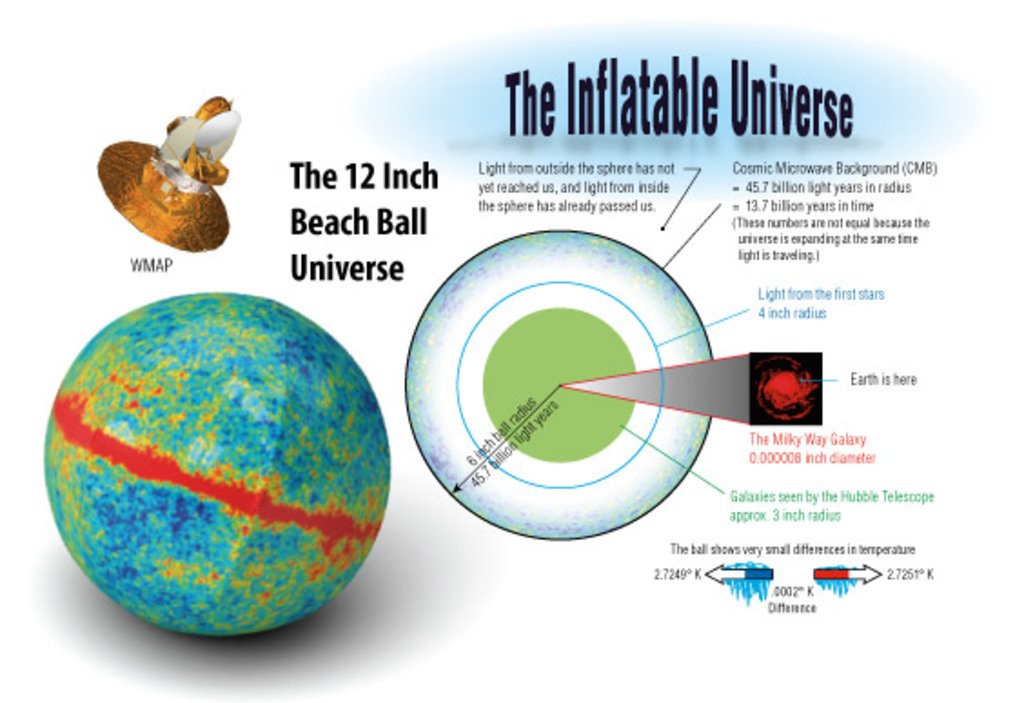Ball: (42, 287, 392, 638)
